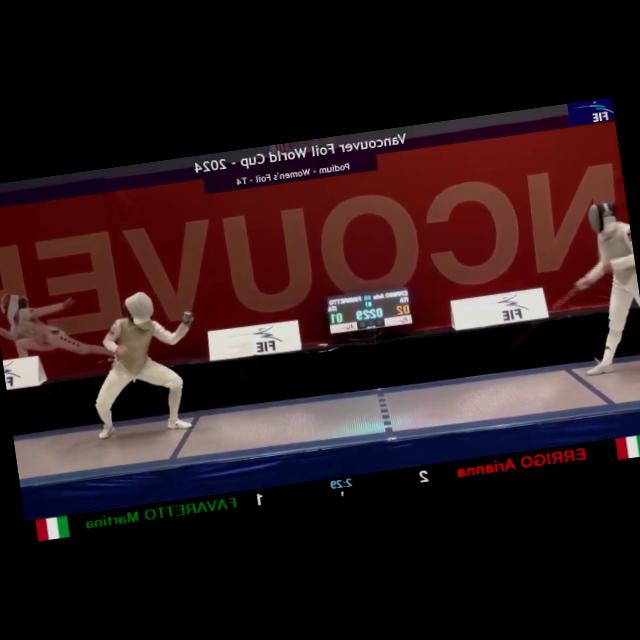blade: (498, 279, 592, 352)
